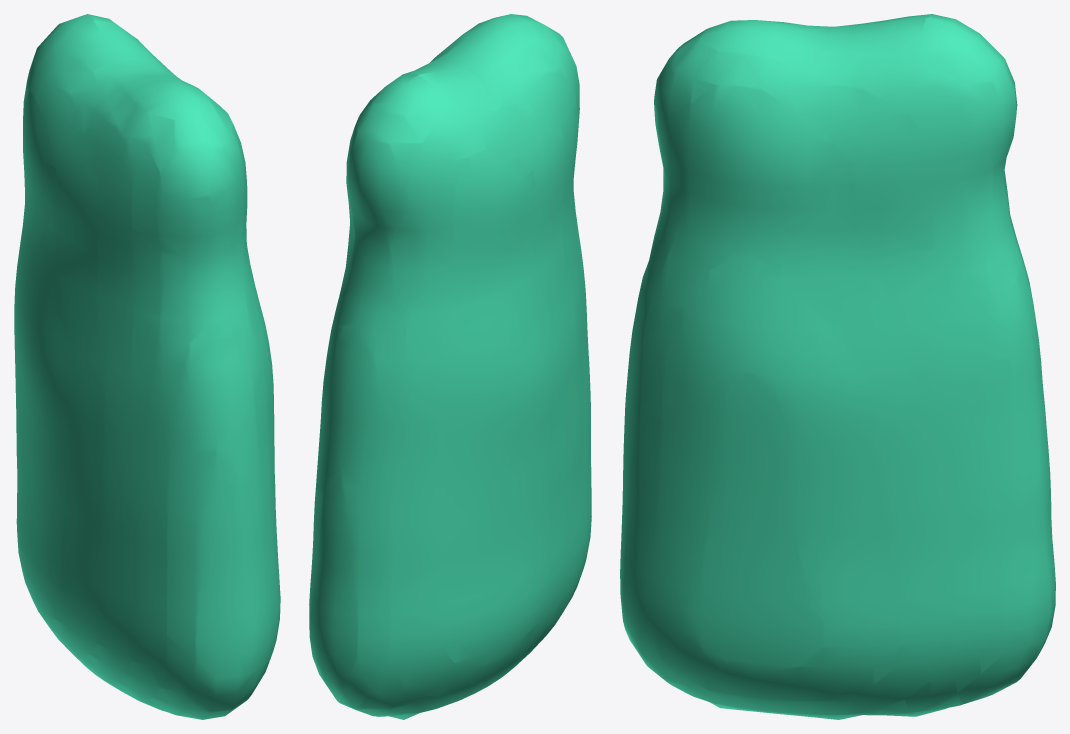
3 views of the same model, side by side, from view 1: azimuth 30°, elevation 25°; view 2: azimuth 150°, elevation 25°; view 3: azimuth 270°, elevation 25° (orthographic). The views are drawn at different scales.
Visible parts, largest first — view 1: Liquid_Domain; view 2: Liquid_Domain; view 3: Liquid_Domain.
Part boxes in pixels (bbox=[...]): Liquid_Domain: bbox=[14, 14, 280, 719]; Liquid_Domain: bbox=[309, 14, 591, 719]; Liquid_Domain: bbox=[620, 14, 1055, 719].
Size of the model in its own units: 1.33 by 4.26 by 2.47.
